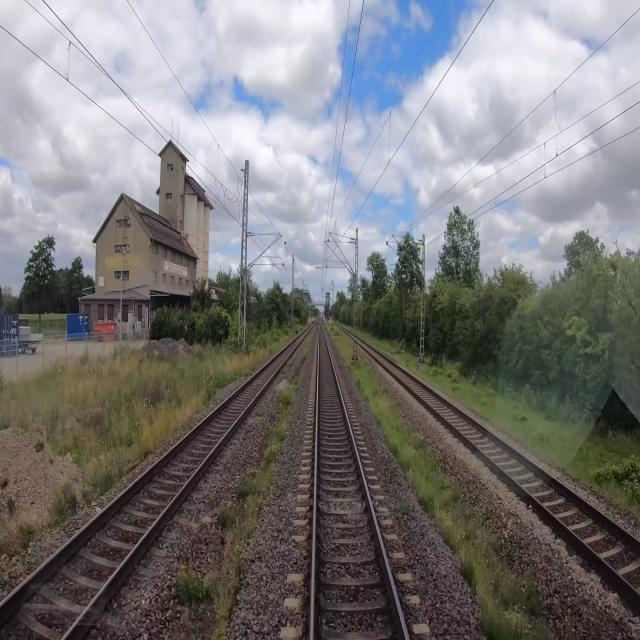Plant: (325, 323, 541, 639), (204, 377, 299, 639), (177, 564, 205, 604), (218, 501, 236, 526), (303, 327, 315, 358), (396, 497, 409, 517), (255, 406, 265, 418)
